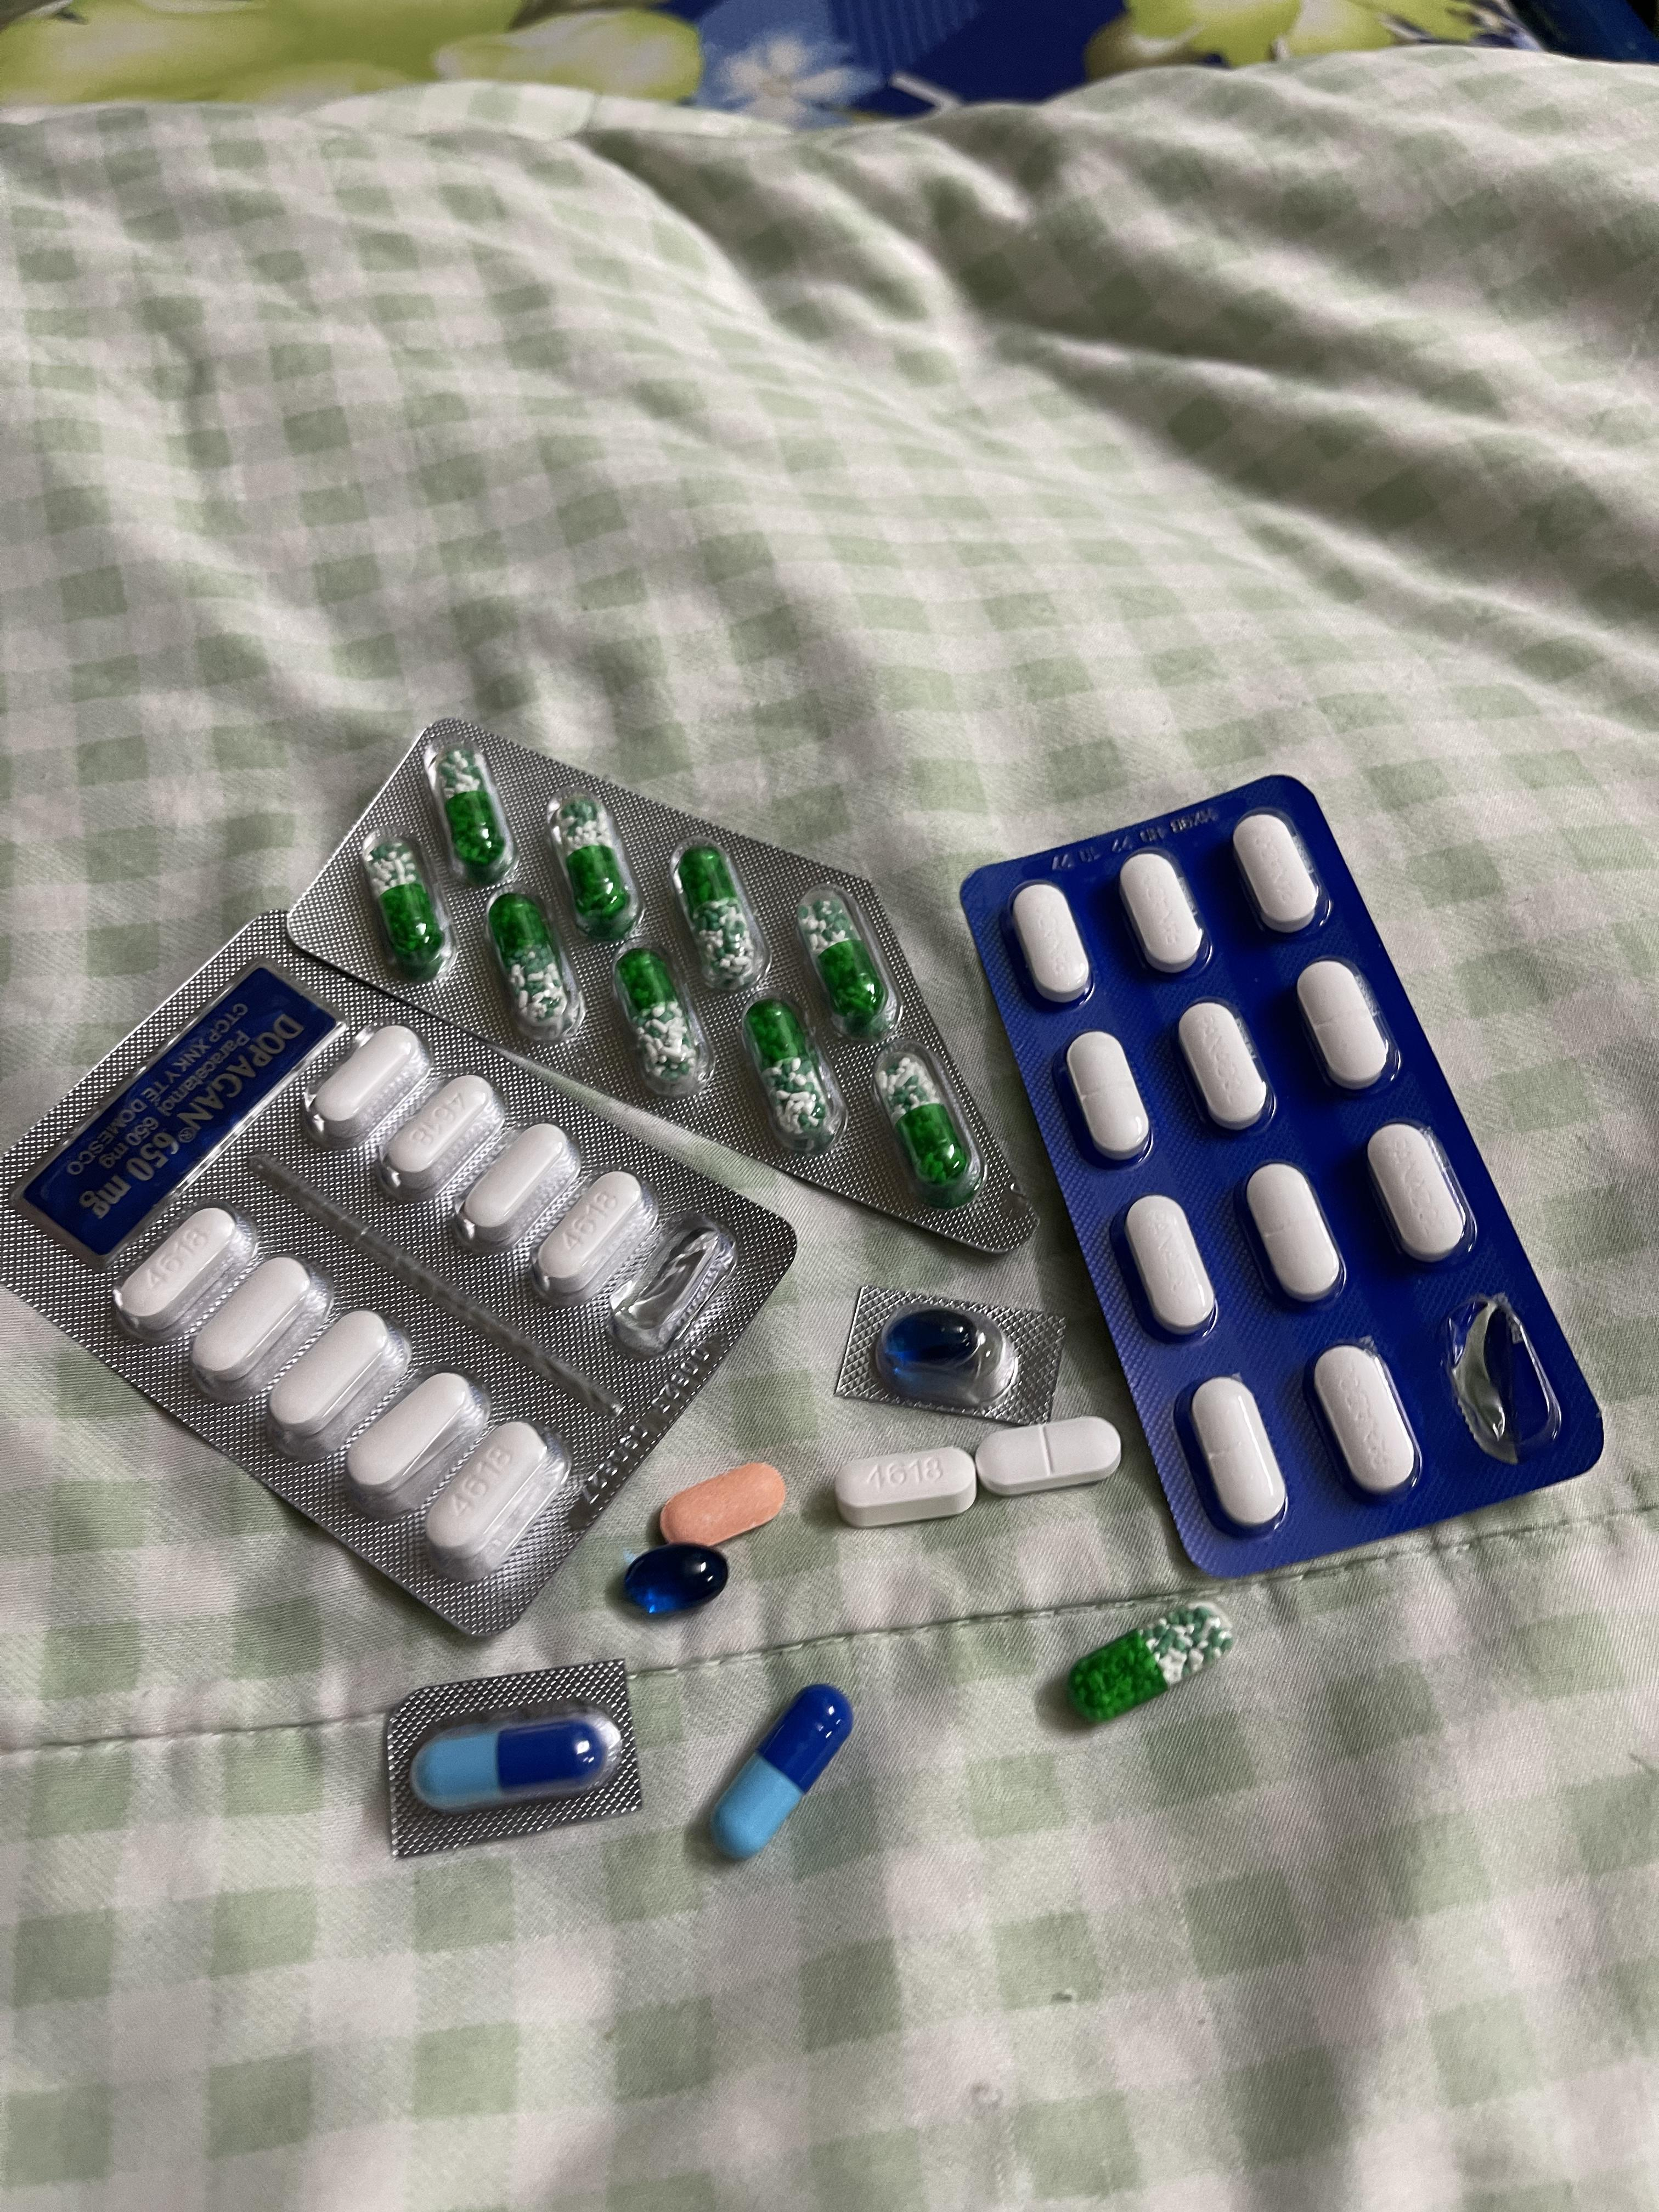Lincomyxin_500mg: (619, 1541, 733, 1613), (884, 1310, 987, 1380)
Loratadine_10mg: (658, 1460, 785, 1547)
Paracetamol_350mg: (1174, 1373, 1286, 1537), (1309, 1344, 1421, 1501), (1241, 1163, 1347, 1309), (1367, 1123, 1474, 1266), (1120, 1195, 1219, 1341), (1297, 958, 1399, 1096), (1177, 1000, 1274, 1135), (979, 1413, 1121, 1497), (1062, 1028, 1149, 1163), (1233, 810, 1324, 936), (1119, 851, 1207, 975), (1009, 882, 1090, 1005)
Paracetamol_500mg: (264, 1308, 411, 1457), (421, 1418, 566, 1563), (341, 1370, 484, 1511), (190, 1255, 327, 1392), (114, 1209, 251, 1340), (524, 1168, 653, 1301), (451, 1123, 580, 1253), (377, 1073, 505, 1201), (307, 1024, 432, 1147), (832, 1445, 972, 1527)
Paracetamol_650mg: (1070, 1599, 1226, 1723), (877, 1037, 988, 1210), (740, 992, 843, 1154), (612, 943, 714, 1100), (488, 892, 580, 1045), (433, 746, 514, 884), (553, 798, 632, 934), (368, 841, 447, 976), (680, 847, 758, 985), (801, 894, 882, 1026)
pill: (704, 1681, 846, 1859), (412, 1705, 623, 1812)
